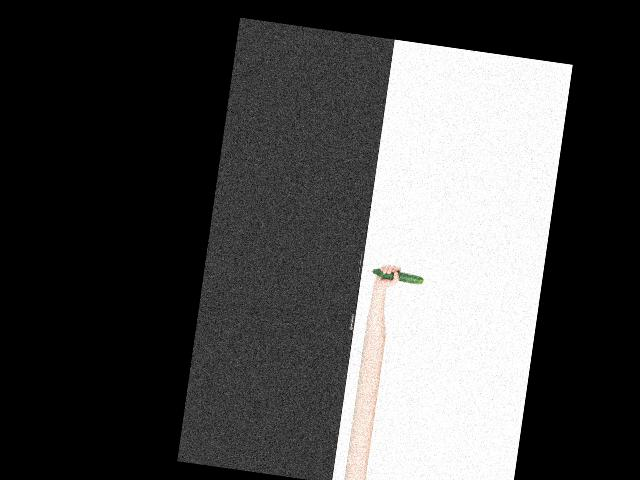cucumber: (370, 267, 424, 284)
